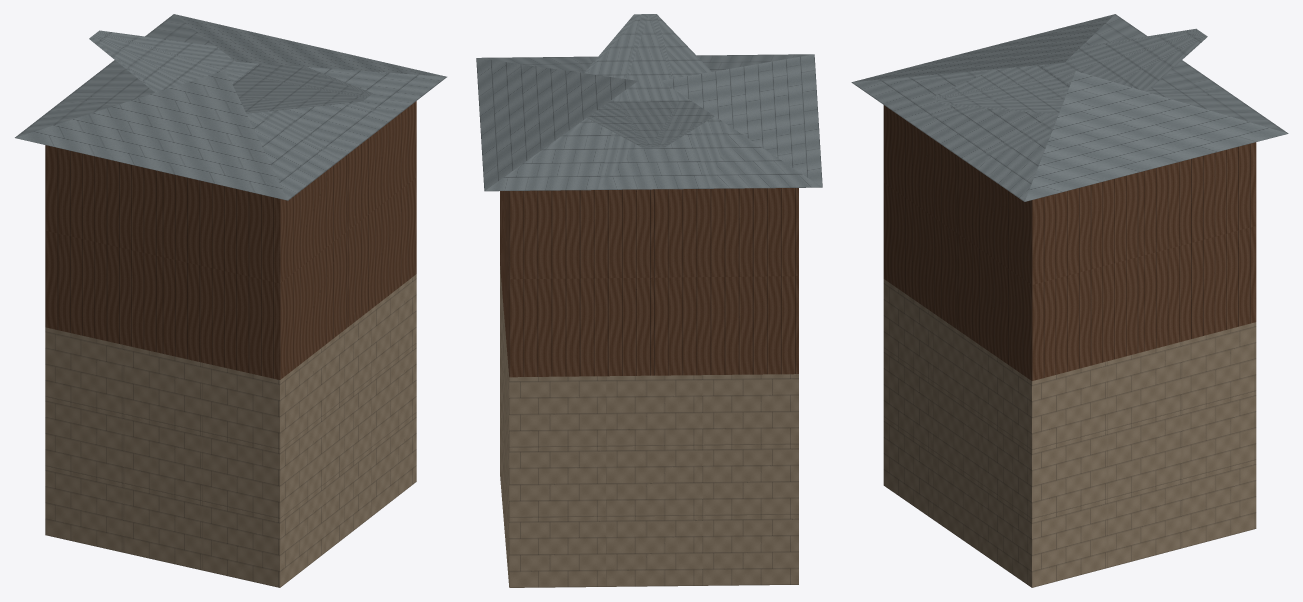
The model's file is bld_c6_16_428.gltf.
The picture shows the model from 3 angles, left to right: view 1: azimuth 30°, elevation 25°; view 2: azimuth 150°, elevation 25°; view 3: azimuth 270°, elevation 25°; orthographic projection.
Visible parts, largest first — view 1: bld_c6_16_428; view 2: bld_c6_16_428; view 3: bld_c6_16_428.
Part boxes in pixels (left/top/right/bottom): bld_c6_16_428: left=15, top=14, right=446, bottom=587; bld_c6_16_428: left=476, top=14, right=822, bottom=587; bld_c6_16_428: left=851, top=14, right=1288, bottom=587.
Size of the model in its own units: 9.81 by 10.7 by 9.64.
Materials: 3 (3 with a texture image).
